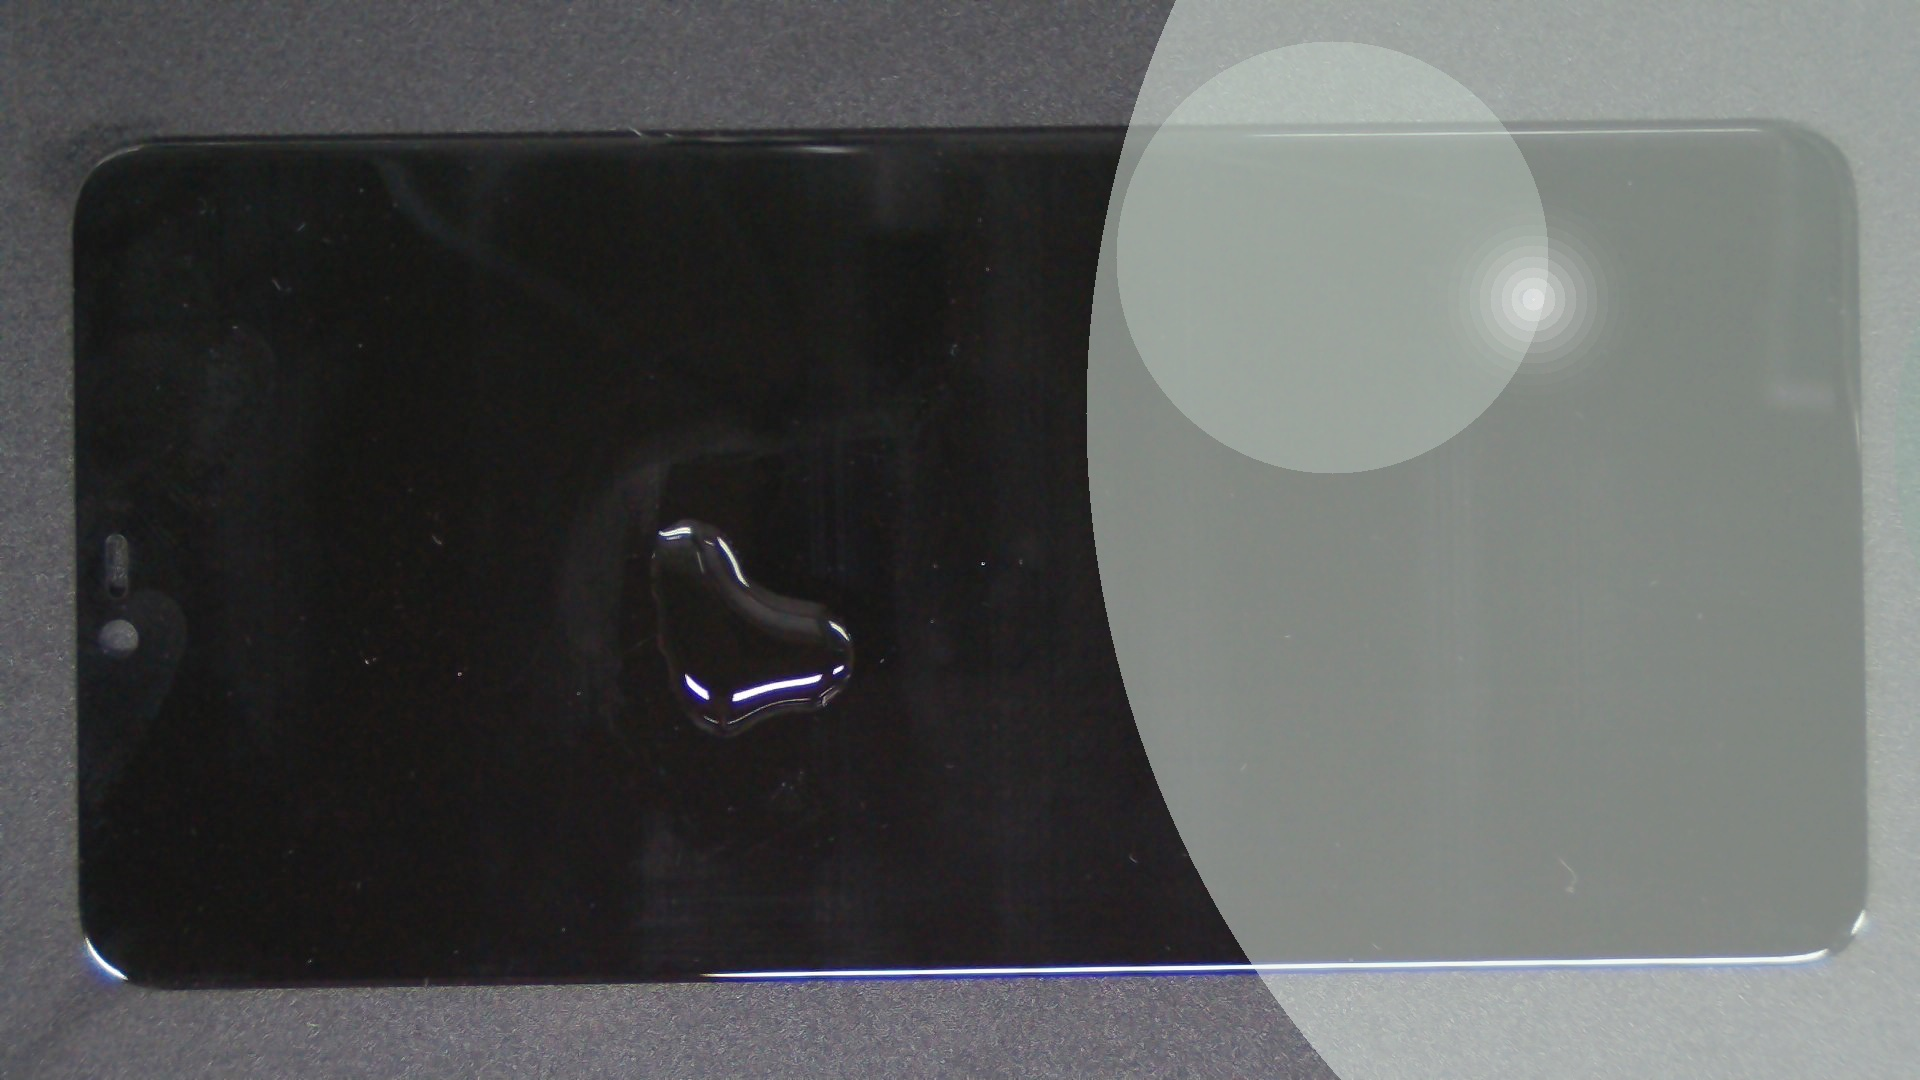oil: (345, 258, 1036, 778)
